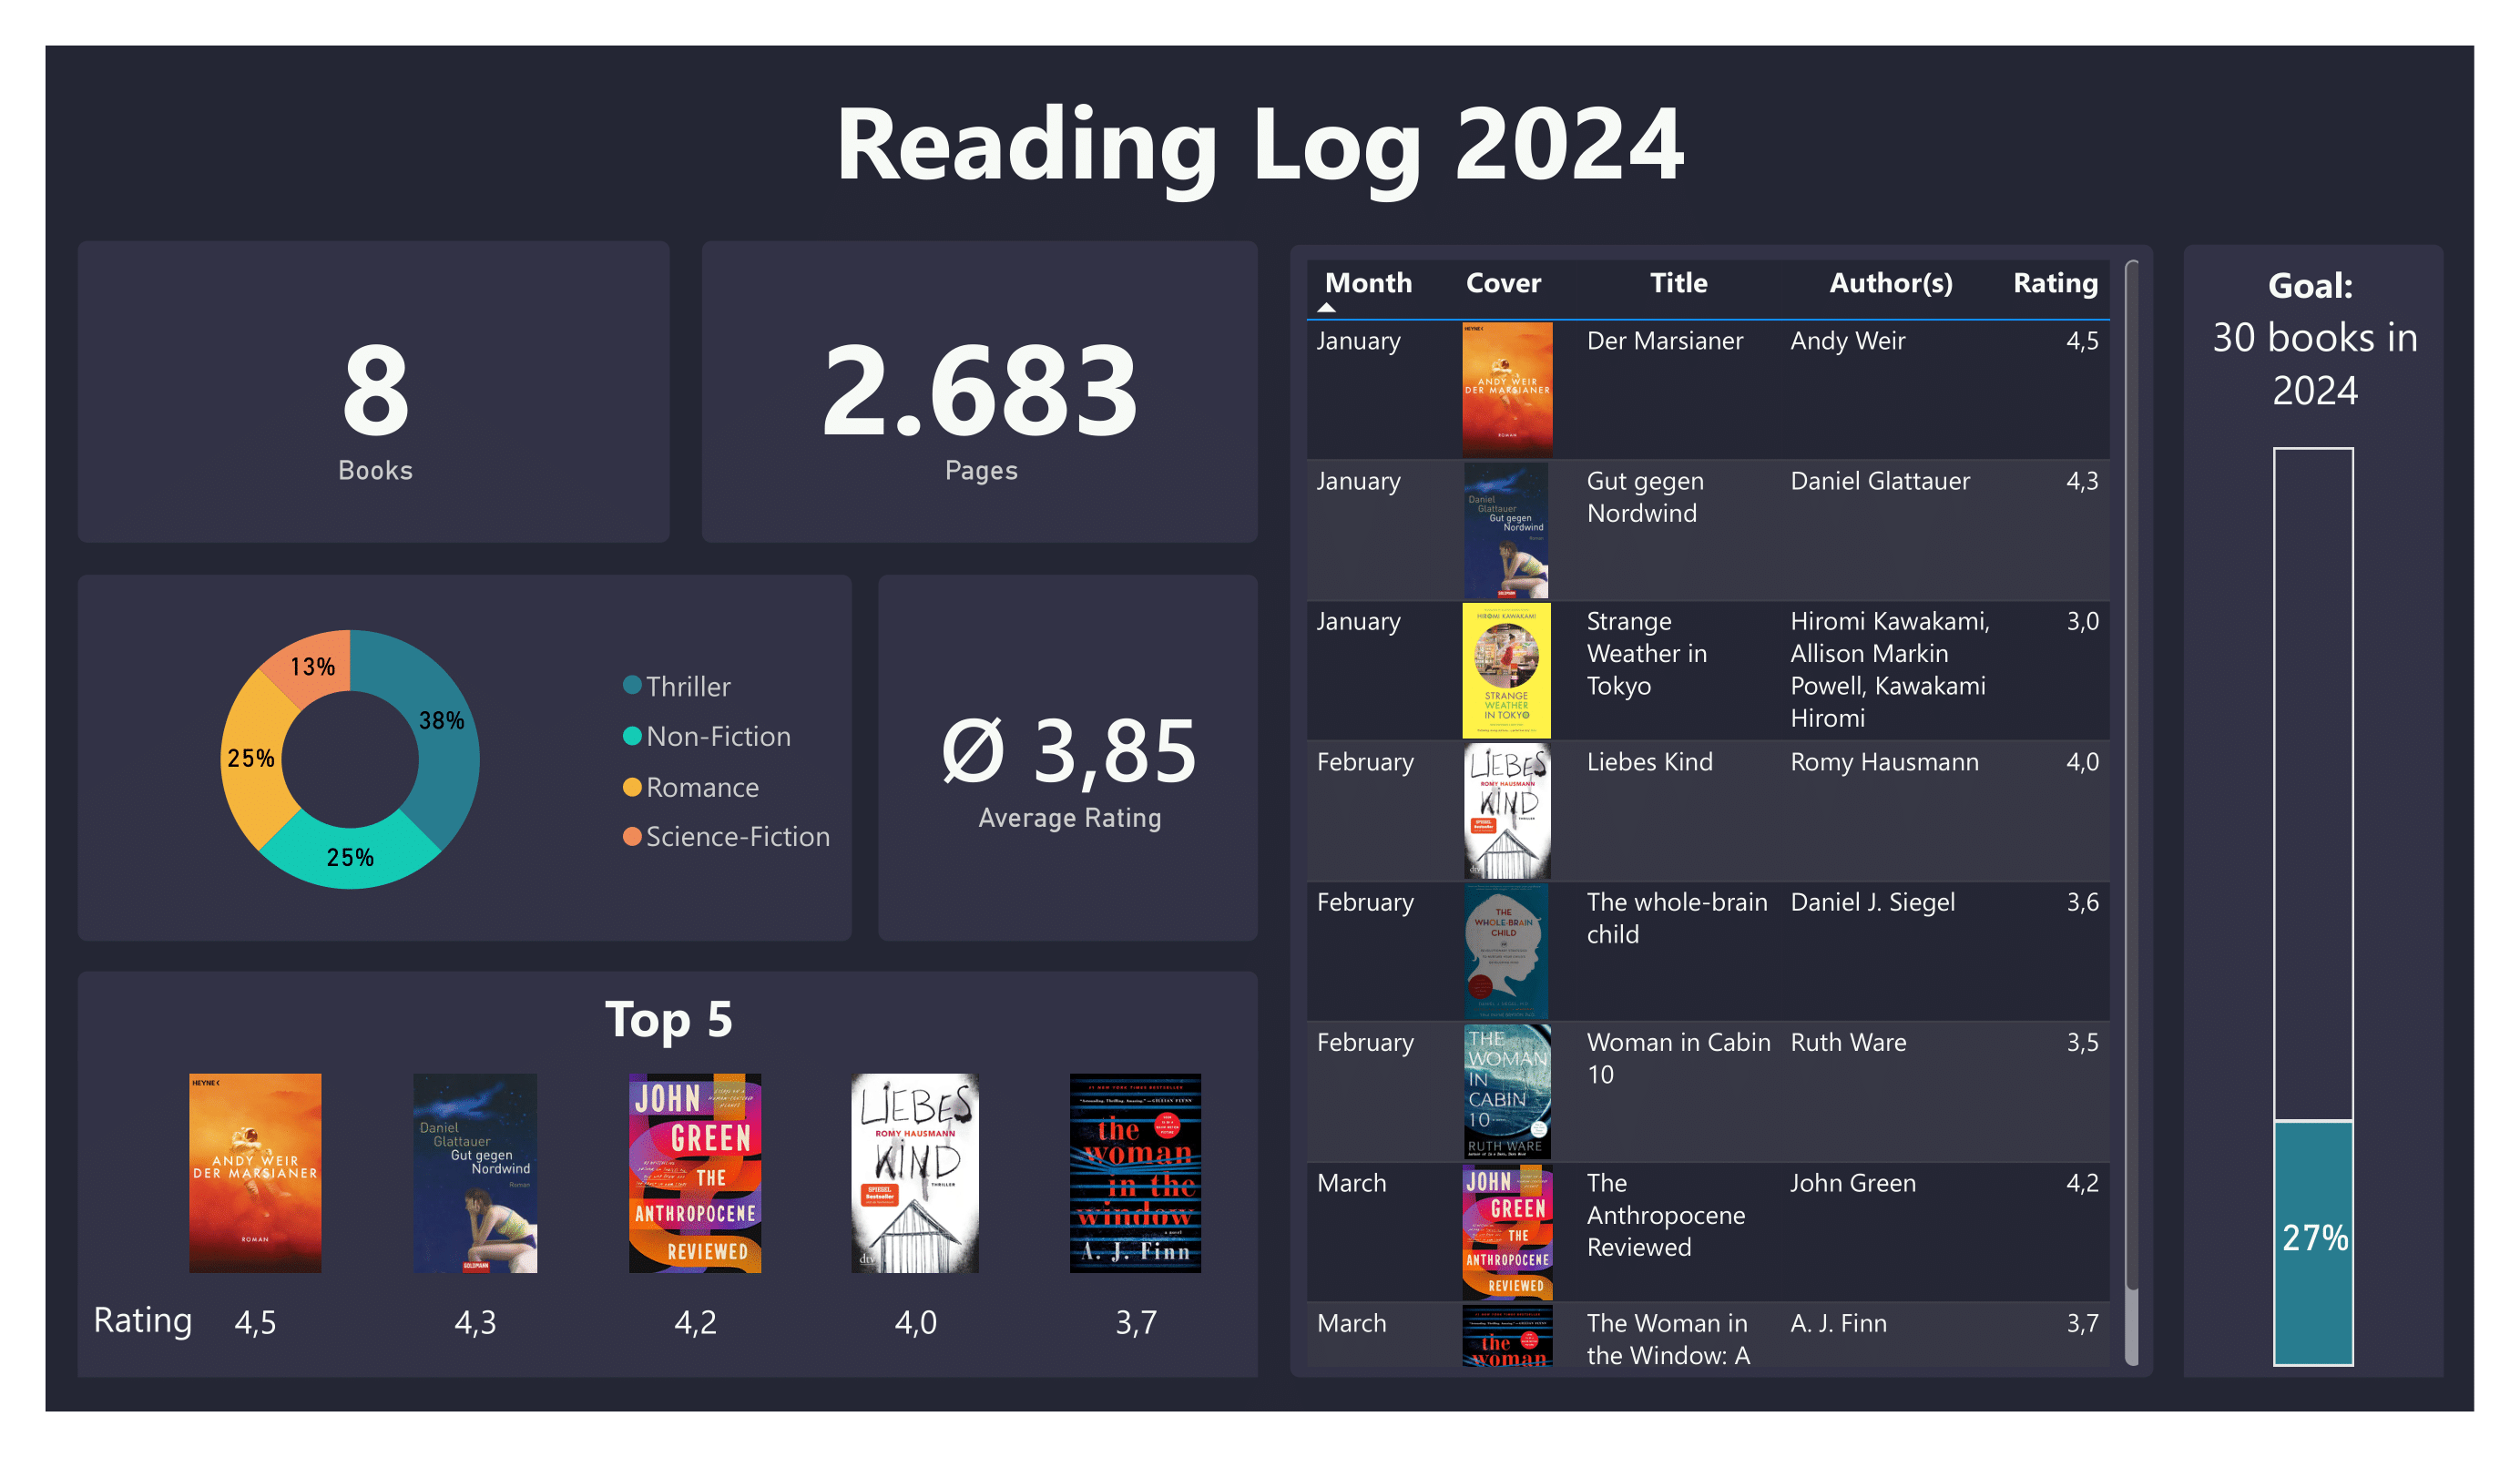

The dashboard page shown, as its layout file describes it:
{"tool":"powerbi","page":{"name":"Page 2","canvas":[1280,720],"ordinal":0},"visuals":[{"type":"donutChart","fields":{"Category":["public books.genre"],"Y":["public books.book_id"]},"box":[17,279.2,408.2,192.8],"z":0},{"type":"card","title":"Total Books","fields":{"Values":["public books.book_id"]},"box":[17,103.5,311.8,158.7],"z":1000},{"type":"card","fields":{"Values":["public books.number_of_pages"]},"box":[345.8,103.5,293.4,158.7],"z":2000},{"type":"card","fields":{"Values":["public books.rating_mw"]},"box":[439.4,279.2,199.8,192.8],"z":3000},{"type":"pivotTable","fields":{"Columns":["public books.url"],"Values":["public books.rating"]},"box":[17,530.1,622.2,171.5],"z":4000},{"type":"tableEx","fields":{"Values":["date.Date.Variation.Date Hierarchy.Month","public books.url","public books.book_name","public authors.author_name","public books.rating"]},"box":[656.2,104.9,455,596.7],"z":5000},{"type":"columnChart","fields":{"Y":["public books.Goal_reached","public books.Goal_not_reached"]},"box":[1126.8,198.4,137.5,503.1],"z":6000},{"type":"textbox","box":[17,487.6,622.2,51],"z":7000},{"type":"textbox","box":[0,7.1,1279.8,96.4],"z":8000},{"type":"textbox","box":[17.1,650,78.6,51.4],"z":9000},{"type":"textbox","box":[1126.8,104.9,137.5,104.9],"z":10000}]}

Visuals, with their boxes on the page's 1280x720 design canvas (x1, y1, x2, y2). These are canvas units, not pixel positions in the 2520x1457 screenshot, which may show the page scaled, cropped or inside an application window:
donutChart - public books.genre x public books.book_id: {"x1": 17, "y1": 279, "x2": 425, "y2": 472}
"Total Books" card: {"x1": 17, "y1": 104, "x2": 329, "y2": 262}
card - public books.number_of_pages: {"x1": 346, "y1": 104, "x2": 639, "y2": 262}
card - public books.rating_mw: {"x1": 439, "y1": 279, "x2": 639, "y2": 472}
pivotTable - public books.url x public books.rating: {"x1": 17, "y1": 530, "x2": 639, "y2": 702}
tableEx - date.Date.Variation.Date Hierarchy.Month x public books.url: {"x1": 656, "y1": 105, "x2": 1111, "y2": 702}
columnChart - public books.Goal_reached x public books.Goal_not_reached: {"x1": 1127, "y1": 198, "x2": 1264, "y2": 702}
textbox: {"x1": 17, "y1": 488, "x2": 639, "y2": 539}
textbox: {"x1": 0, "y1": 7, "x2": 1280, "y2": 104}
textbox: {"x1": 17, "y1": 650, "x2": 96, "y2": 701}
textbox: {"x1": 1127, "y1": 105, "x2": 1264, "y2": 210}
